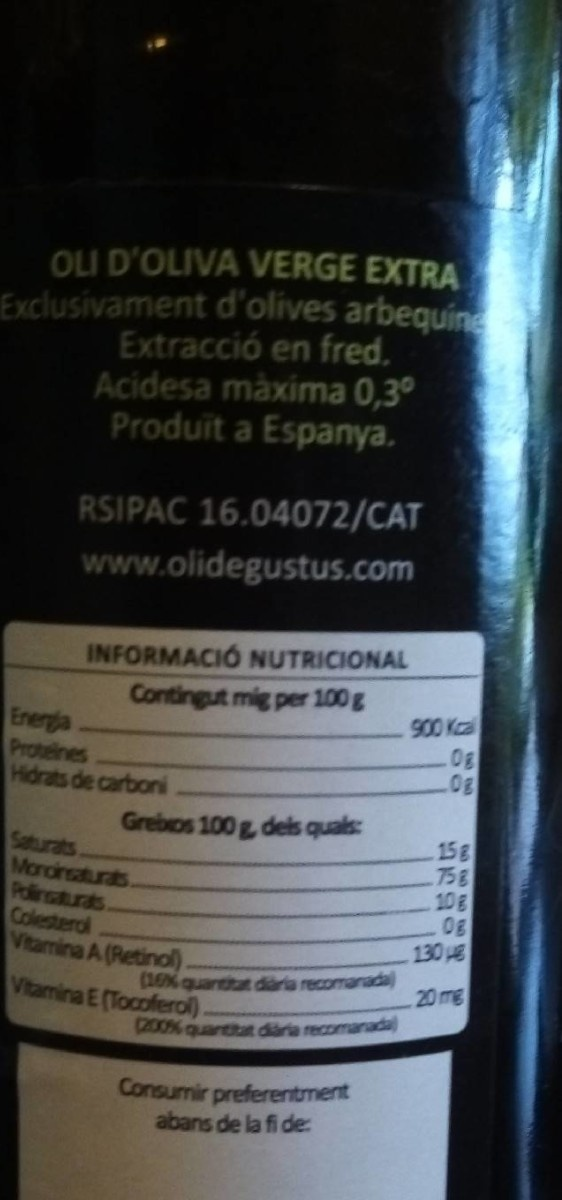column: (11, 698, 173, 797), (410, 717, 474, 801)
table: (2, 623, 487, 801)
